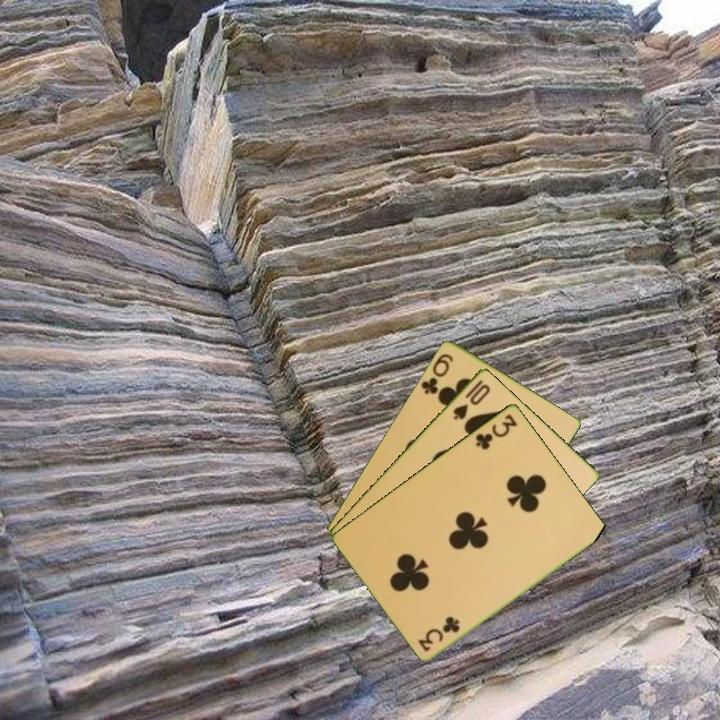10s: (449, 375, 493, 422)
3c: (472, 410, 520, 452), (416, 614, 463, 654)
6c: (417, 349, 456, 397)
